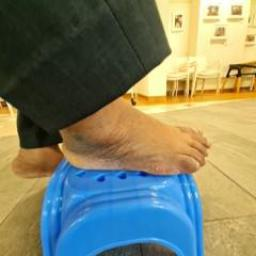Lateral View -Right Foot-: (30, 61, 229, 194)
